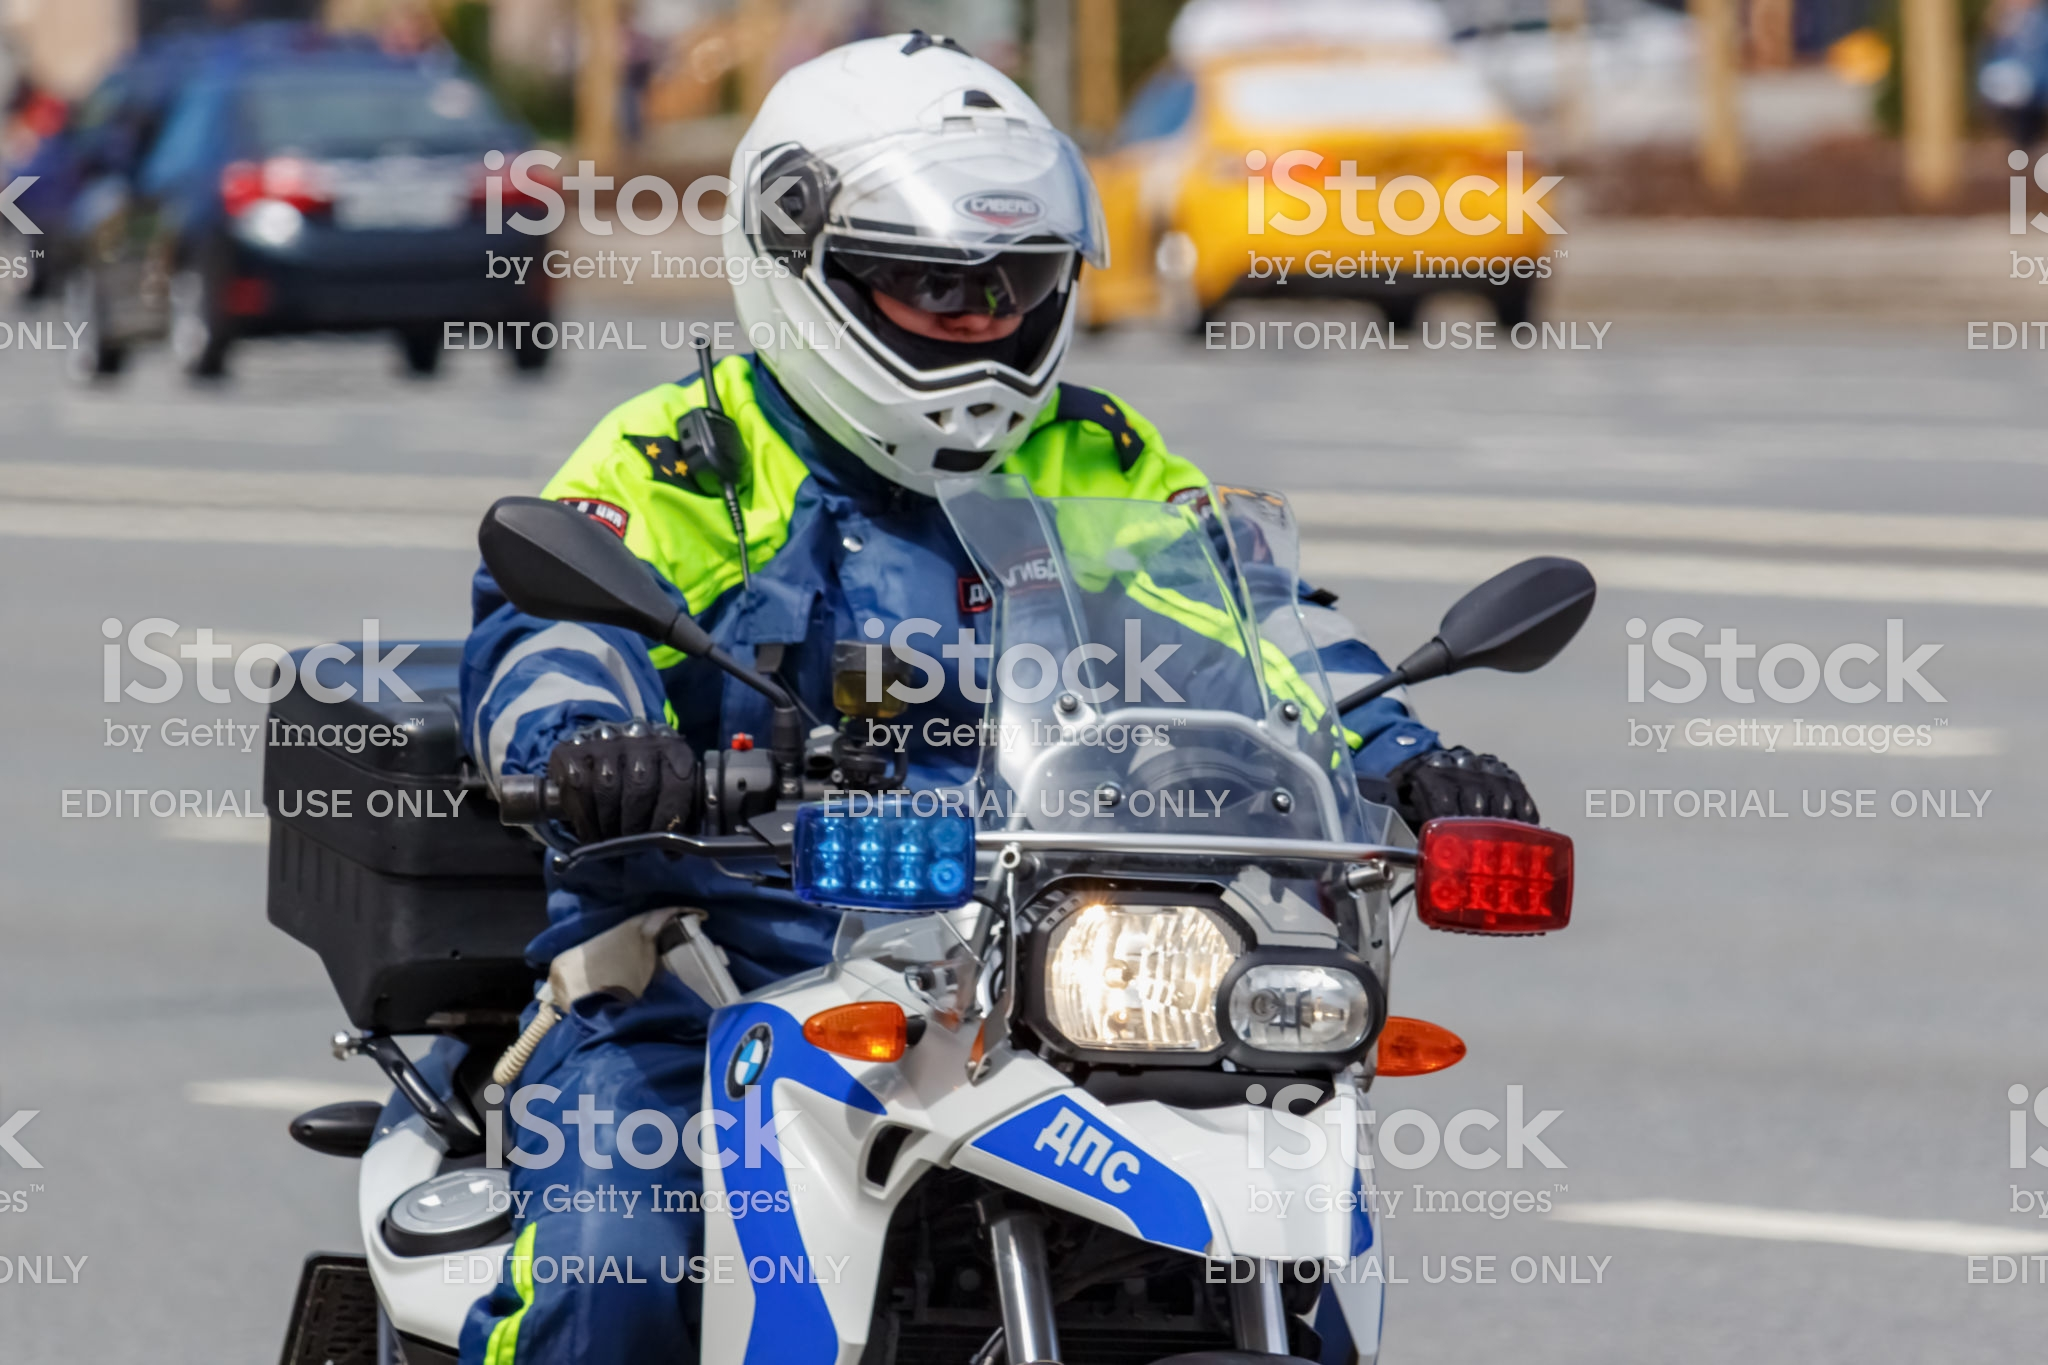helmet: (693, 40, 1166, 484)
